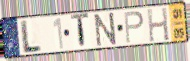1: (52, 18, 64, 50)
H: (146, 6, 171, 44)
L: (21, 19, 43, 55)
N: (93, 12, 119, 49)
P: (123, 10, 145, 44)
T: (70, 13, 90, 51)
